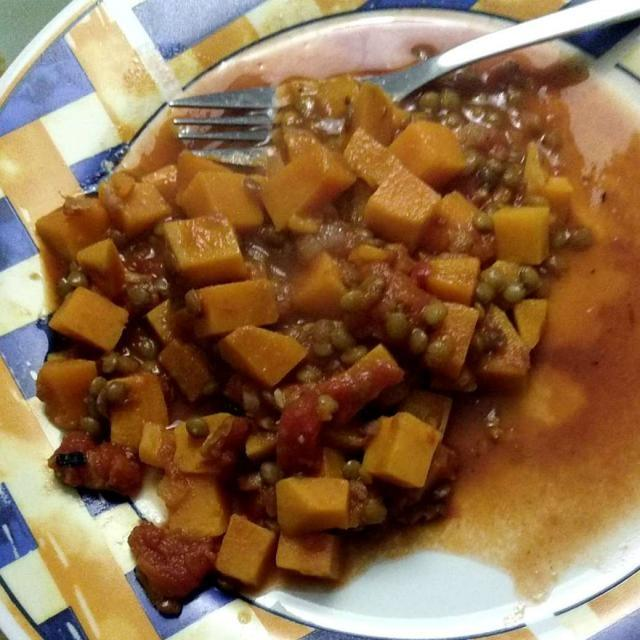lentils: (57, 77, 571, 477)
sweet-potato: (35, 75, 584, 581)
tomato-sauce: (227, 115, 619, 581)
